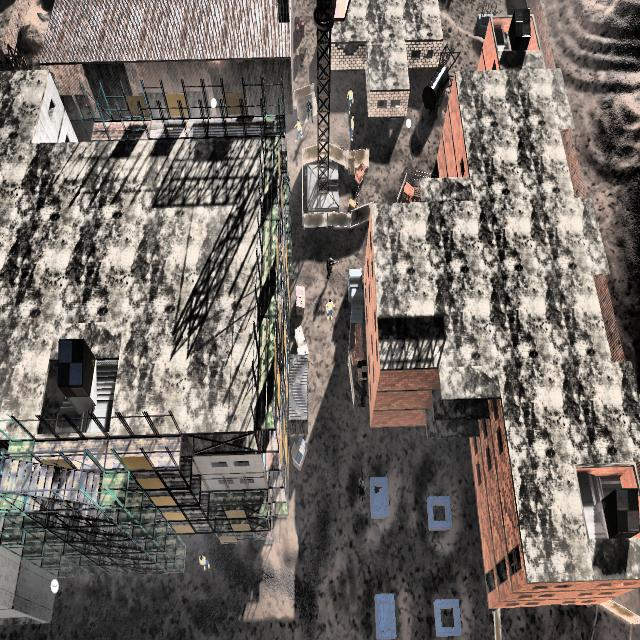bad: (324, 248, 339, 284), (355, 472, 368, 505), (304, 93, 316, 124)
good: (197, 544, 213, 579), (344, 81, 357, 114), (348, 108, 358, 149), (291, 118, 304, 148)
